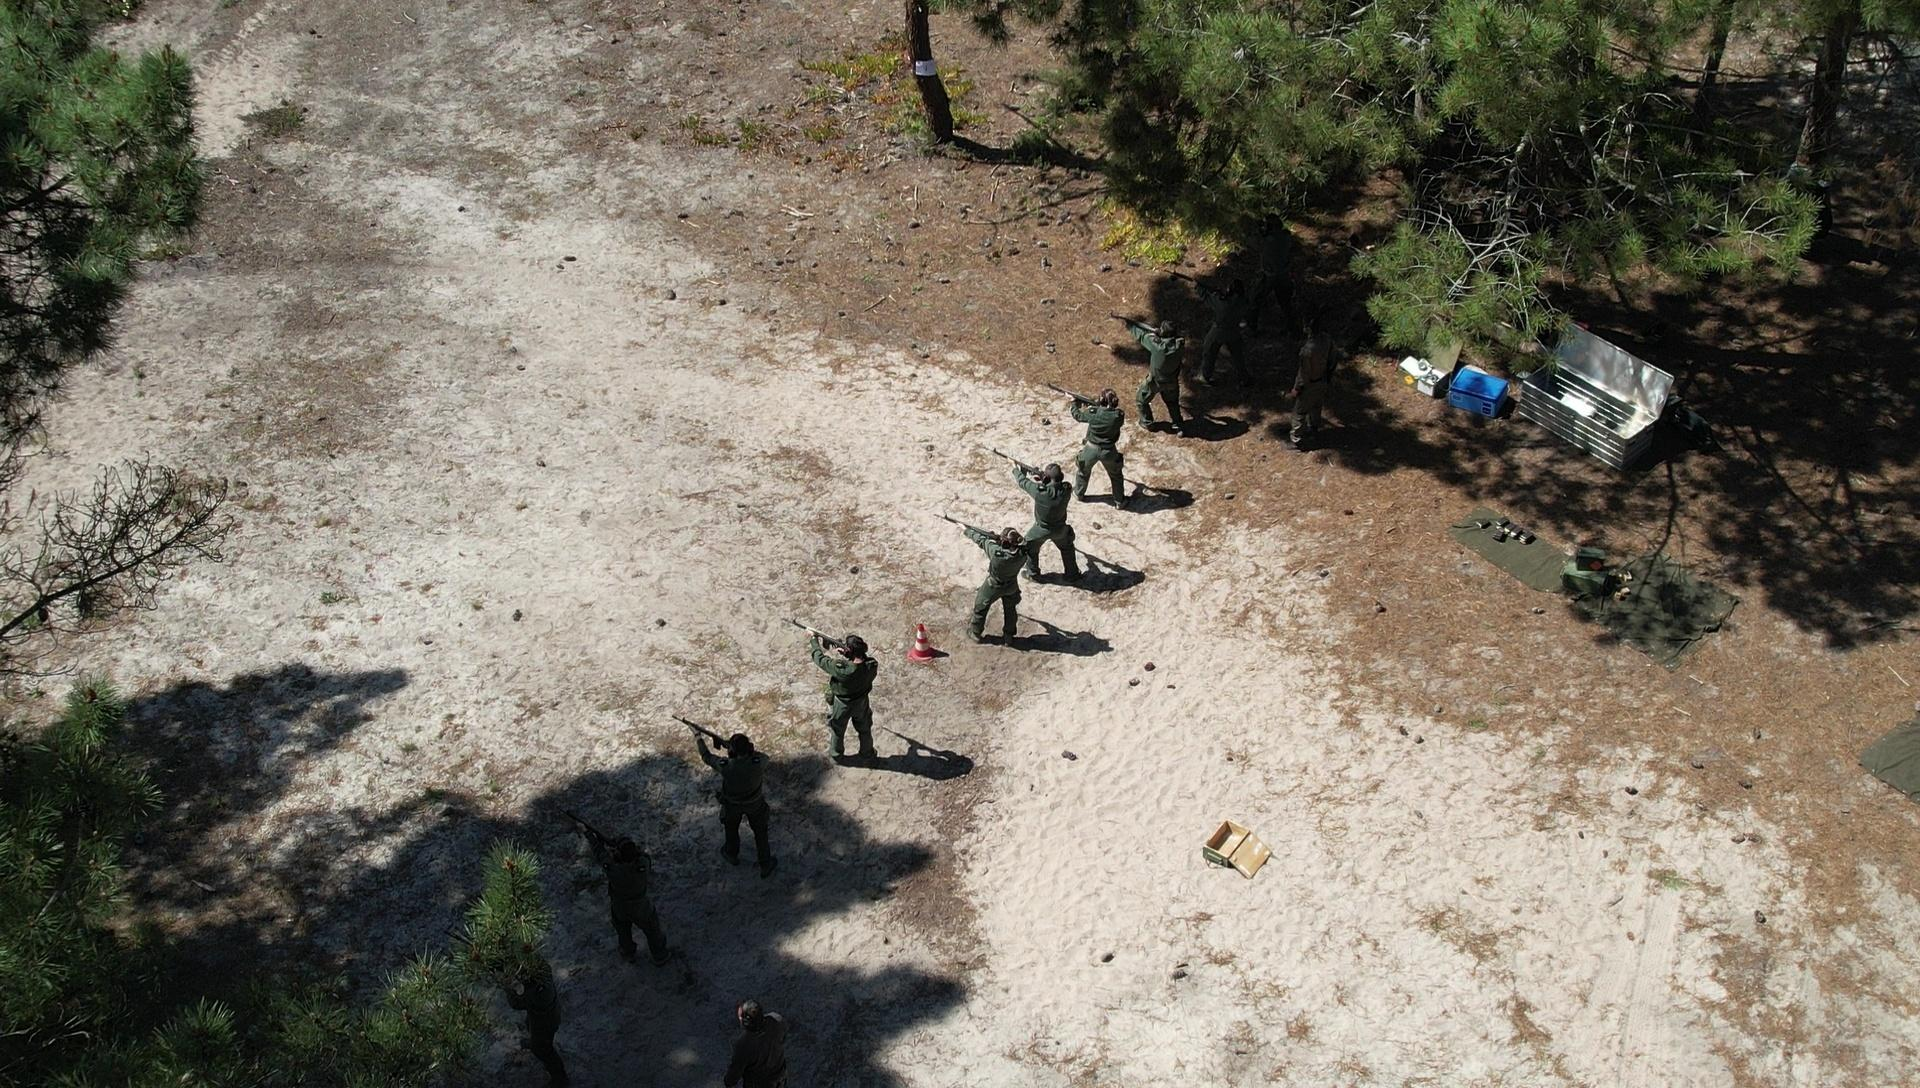Soldier: (684, 710, 803, 886), (796, 621, 905, 781), (574, 822, 678, 981), (1269, 303, 1356, 467), (1201, 258, 1294, 408), (957, 510, 1042, 665), (1055, 393, 1138, 530), (1011, 458, 1091, 601), (492, 957, 580, 1070), (1120, 309, 1195, 431), (715, 1015, 806, 1087)
